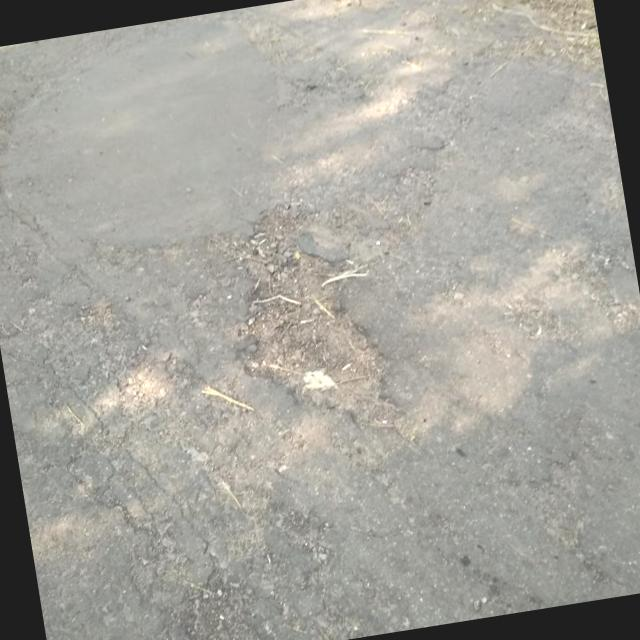Lubang: (245, 214, 395, 426)
